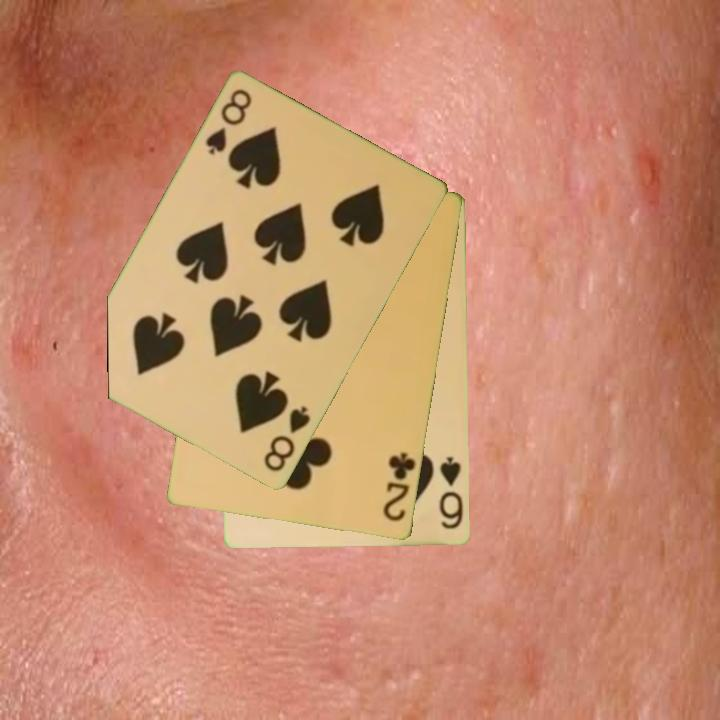2c: (380, 449, 419, 525)
6s: (436, 454, 466, 532)
8s: (201, 85, 255, 159), (260, 403, 314, 476)
